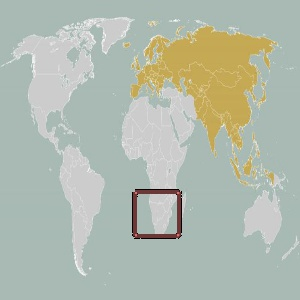square: (131, 189, 183, 241)
